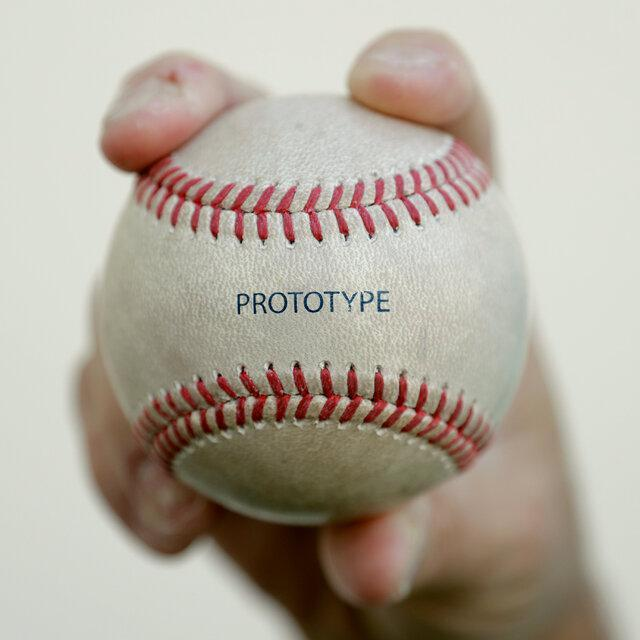baseball: (93, 90, 533, 522)
